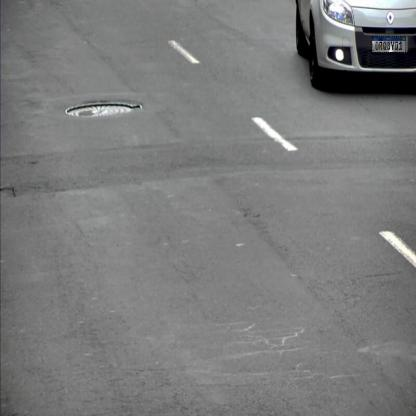PlacaM: (372, 36, 406, 53)
